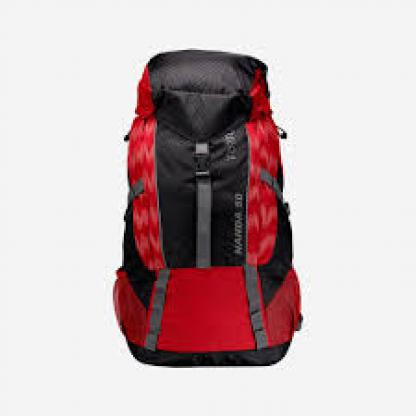morral: (111, 37, 320, 381)
